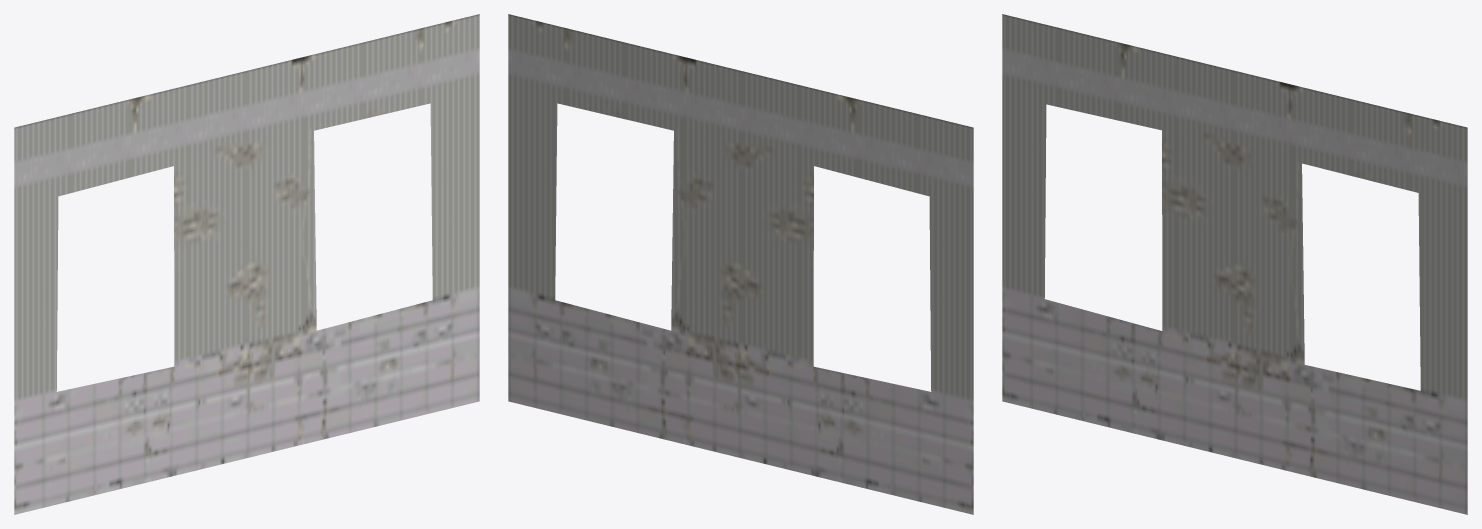
The model's file is W_AI1_ff [Grau]_594.glb.
The picture shows the model from 3 angles, left to right: view 1: azimuth 30°, elevation 25°; view 2: azimuth 150°, elevation 25°; view 3: azimuth 330°, elevation 25°; orthographic projection.
Visible parts, largest first — view 1: pPlaneShape1; view 2: pPlaneShape1; view 3: pPlaneShape1.
Boxes of the visible parts, <box> form: pPlaneShape1: <box>14,14,479,514</box>; pPlaneShape1: <box>508,14,973,514</box>; pPlaneShape1: <box>1002,14,1467,514</box>.
Size of the model in its own units: 0.4385 by 0.3486 by 1.34e-07.
Materials: 1 (1 with a texture image).
